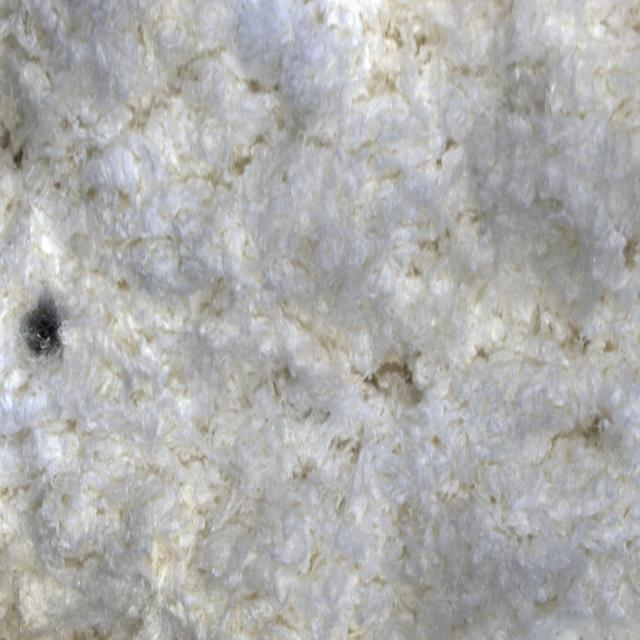dust: (4, 261, 92, 402)
